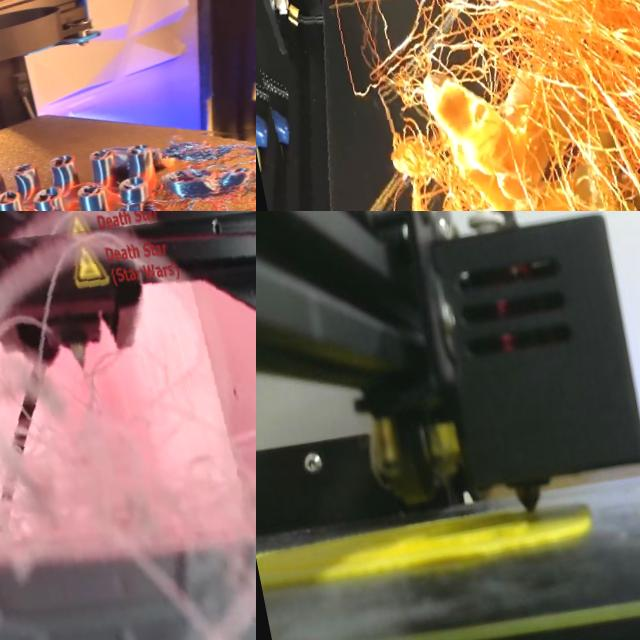spaghetti: (0, 211, 256, 640), (256, 0, 640, 211), (153, 109, 256, 211)
